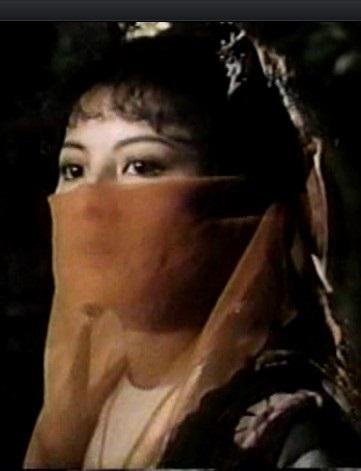OK: (52, 129, 204, 301)
